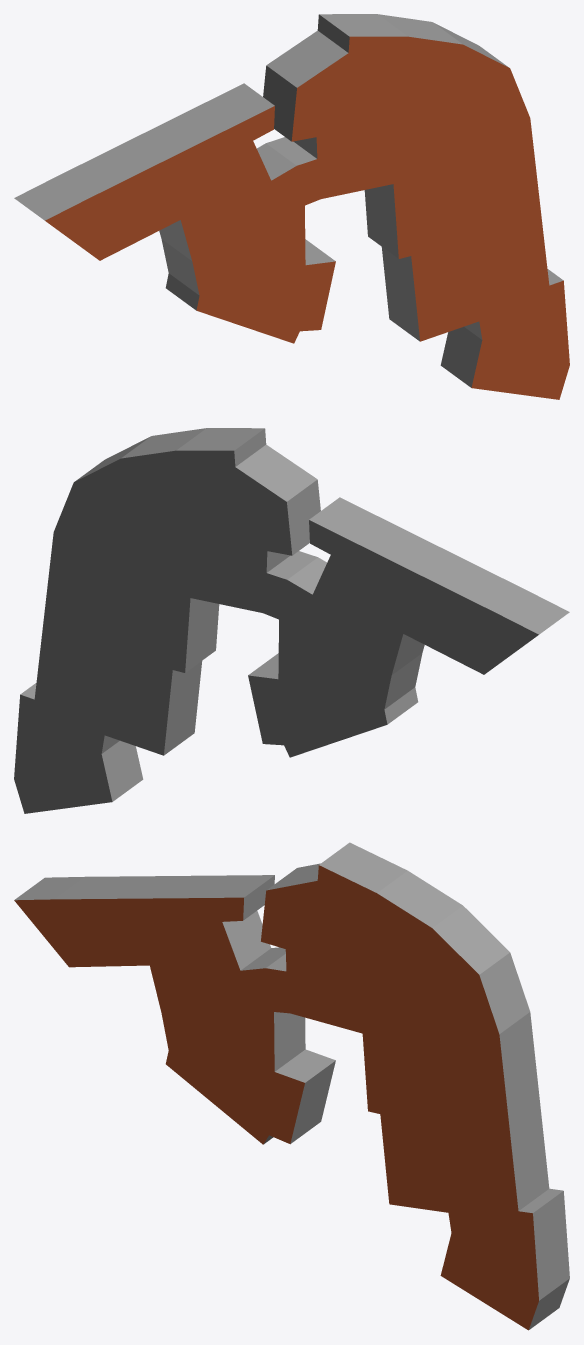
The model's file is construction_6796_assumed_A_Casa_h6m.obj.
The picture shows the model from 3 angles, top to bottom: view 1: azimuth 30°, elevation 25°; view 2: azimuth 150°, elevation 25°; view 3: azimuth 330°, elevation 25°; orthographic projection.
Parts seen in each view (by area): view 1: construction_6796_assumed_A_Casa; view 2: construction_6796_assumed_A_Casa; view 3: construction_6796_assumed_A_Casa.
Boxes of the visible parts, x1,y1,x2,y2 form: construction_6796_assumed_A_Casa: (14,14,569,399); construction_6796_assumed_A_Casa: (14,428,569,813); construction_6796_assumed_A_Casa: (14,842,569,1330).
Size of the model in its own units: 58.92 by 44.43 by 6.
